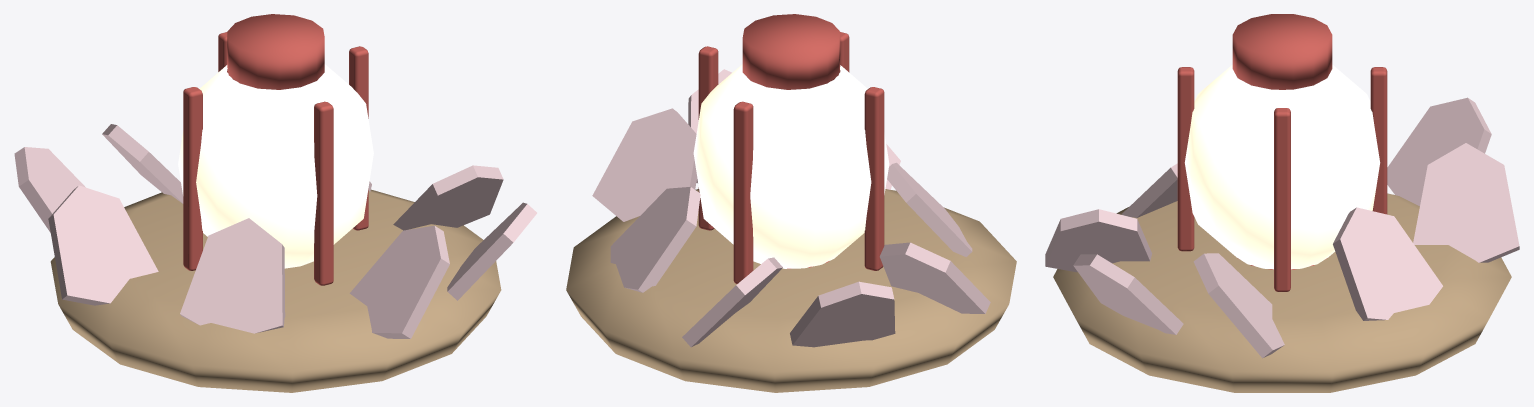
The model's file is floating-water-lantern.glb.
The picture shows the model from 3 angles, left to right: view 1: azimuth 30°, elevation 25°; view 2: azimuth 150°, elevation 25°; view 3: azimuth 270°, elevation 25°; orthographic projection.
Visible parts, largest first — view 1: floating-water-lantern, lantern/paper, lantern/lacquer; view 2: floating-water-lantern, lantern/paper, lantern/lacquer; view 3: floating-water-lantern, lantern/paper, lantern/lacquer.
Part boxes in pixels (x1=…): floating-water-lantern: x1=14, y1=124, x2=536, y2=392; lantern/paper: x1=178, y1=64, x2=373, y2=268; lantern/lacquer: x1=183, y1=14, x2=368, y2=285; floating-water-lantern: x1=566, y1=69, x2=1016, y2=392; lantern/paper: x1=693, y1=64, x2=889, y2=268; lantern/lacquer: x1=698, y1=14, x2=884, y2=283; floating-water-lantern: x1=1045, y1=97, x2=1519, y2=392; lantern/paper: x1=1184, y1=65, x2=1380, y2=269; lantern/lacquer: x1=1177, y1=14, x2=1387, y2=291.
Size of the model in its own units: 0.62 by 0.477 by 0.62.
